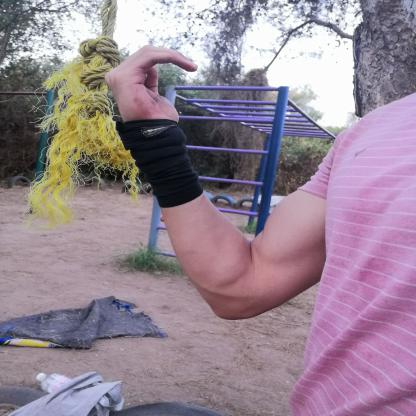HAA: (91, 35, 215, 140)
